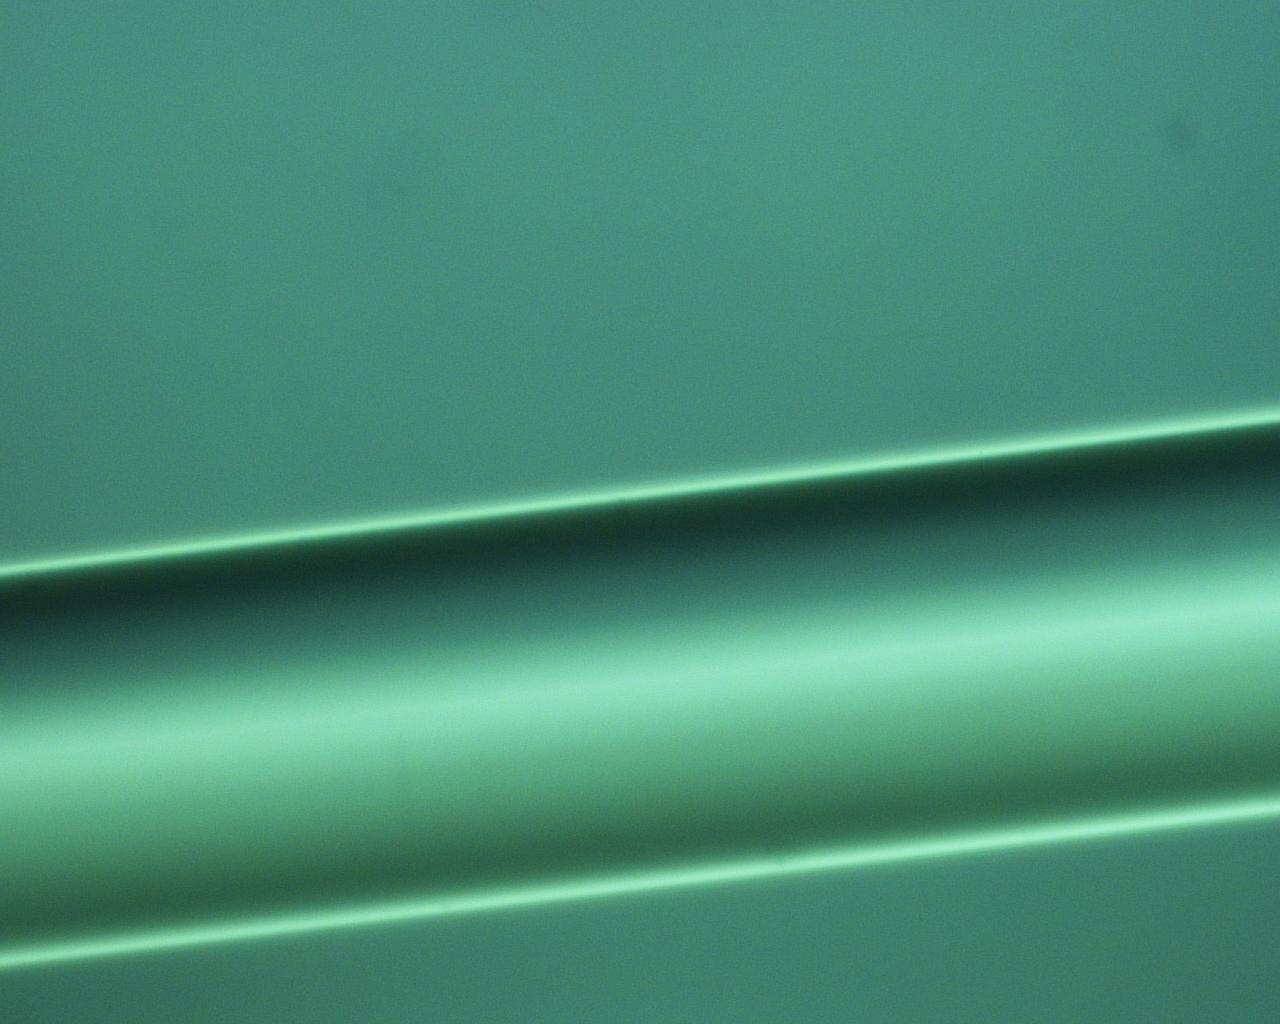fiber: (0, 415, 1280, 970)
